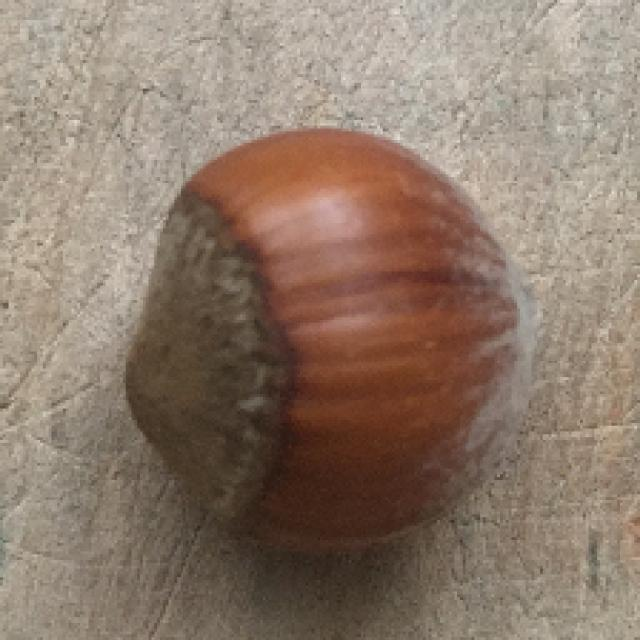QualityHazelnut: (130, 125, 533, 555)
